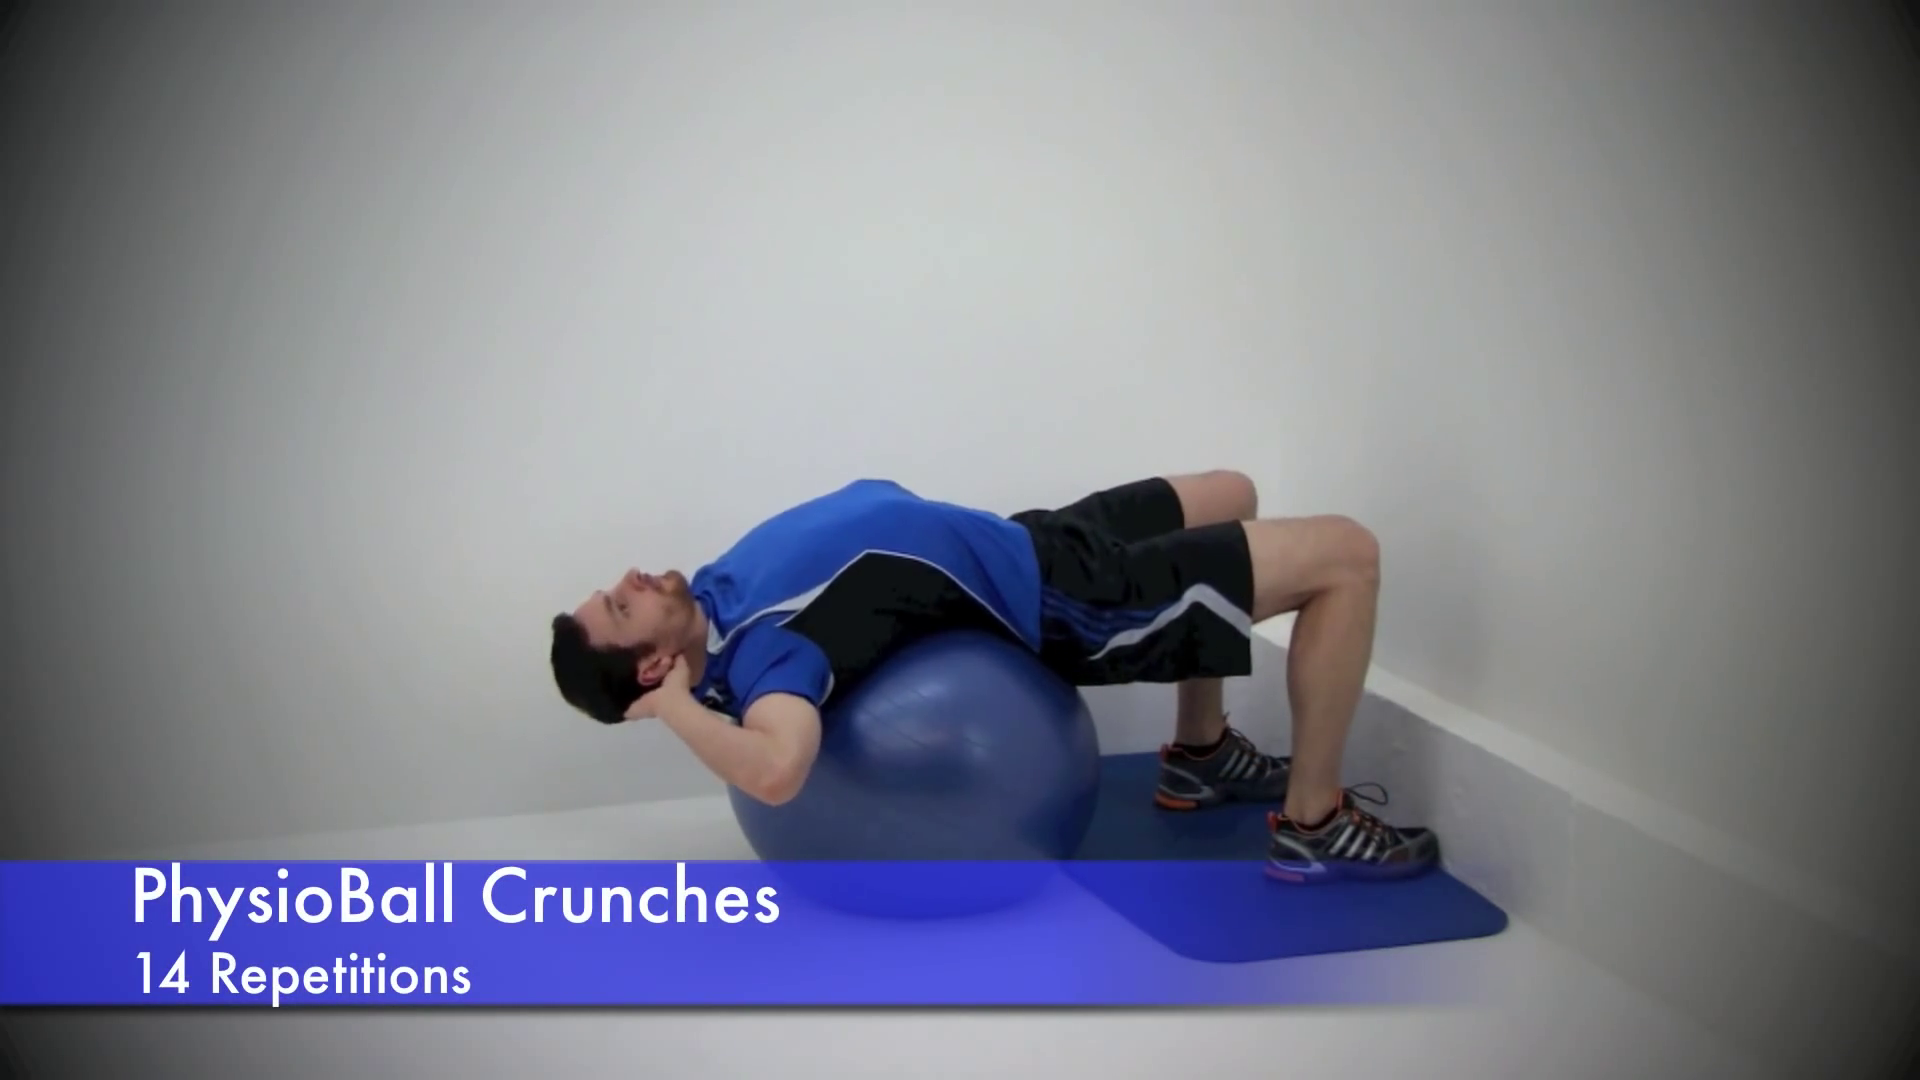yogaball: (703, 649, 1124, 935)
